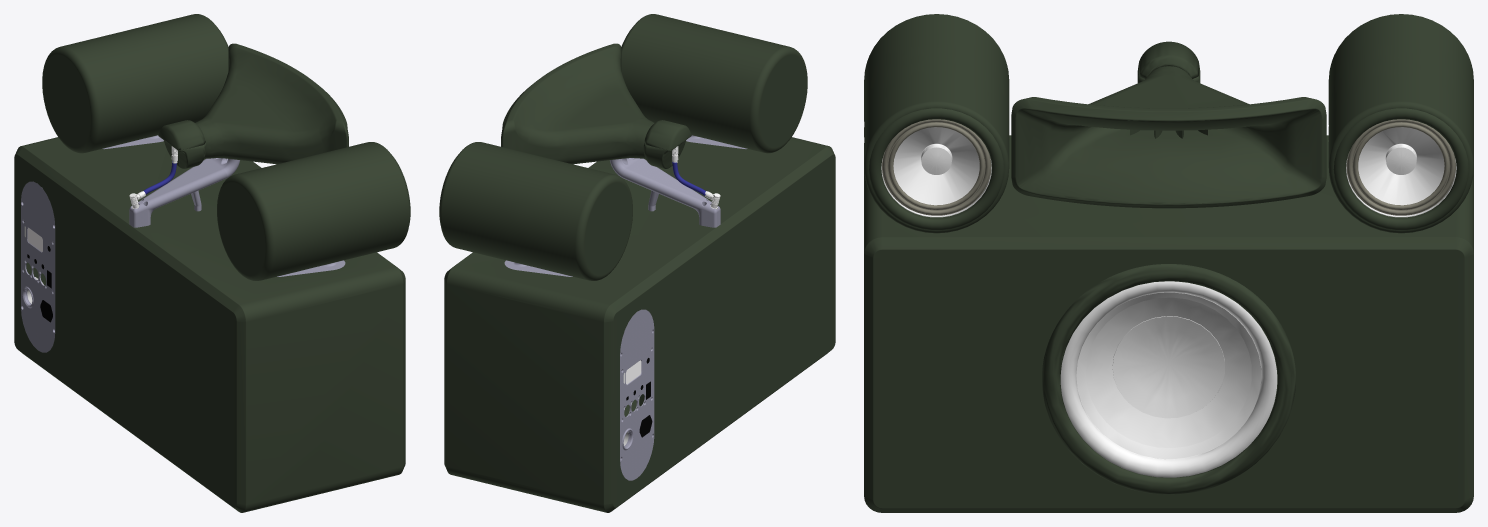
Rendered from assembly.glb.
The picture shows the model from 3 angles, left to right: view 1: azimuth 30°, elevation 25°; view 2: azimuth 150°, elevation 25°; view 3: azimuth 270°, elevation 25°; orthographic projection. The views are drawn at different scales.
Visible parts, largest first — view 1: Main Housing, Left Housing alpha, Right Housing Alpha, Horn, DSP Back plate, Horn Stand, Horn Driver Cover; view 2: Main Housing, Right Housing Alpha, Left Housing alpha, Horn, DSP Back plate, Horn Stand, Horn Driver Cover; view 3: Main Housing, Horn, Lab12, Left Housing alpha, Right Housing Alpha, Baffle Sub, Alpha 6 A Left, ALpha 6 aARight, Baffle Left, Baffle Right, Horn Driver Cover.
Boxes of the visible parts, <box> form: Main Housing: <box>14,137,405,512</box>; Left Housing alpha: <box>217,142,409,280</box>; Right Housing Alpha: <box>42,14,228,153</box>; Horn: <box>195,43,348,164</box>; DSP Back plate: <box>21,181,55,352</box>; Horn Stand: <box>129,158,239,227</box>; Horn Driver Cover: <box>158,120,206,168</box>; Main Housing: <box>444,137,835,512</box>; Right Housing Alpha: <box>439,142,632,280</box>; Left Housing alpha: <box>621,14,807,153</box>; Horn: <box>501,43,654,164</box>; DSP Back plate: <box>620,309,654,480</box>; Horn Stand: <box>610,158,720,227</box>; Horn Driver Cover: <box>643,120,691,168</box>; Main Housing: <box>864,135,1473,512</box>; Horn: <box>1011,66,1326,208</box>; Lab12: <box>1060,281,1277,477</box>; Left Housing alpha: <box>864,14,1009,233</box>; Right Housing Alpha: <box>1328,14,1473,233</box>; Baffle Sub: <box>1042,264,1295,494</box>; Alpha 6 A Left: <box>881,119,991,217</box>; ALpha 6 aARight: <box>1346,119,1456,217</box>; Baffle Left: <box>869,108,1004,230</box>; Baffle Right: <box>1333,108,1468,230</box>; Horn Driver Cover: <box>1137,41,1200,82</box>.
Size of the model in its own units: 11.46 by 18.06 by 24.06.
Materials: 23 (7 with a texture image).
